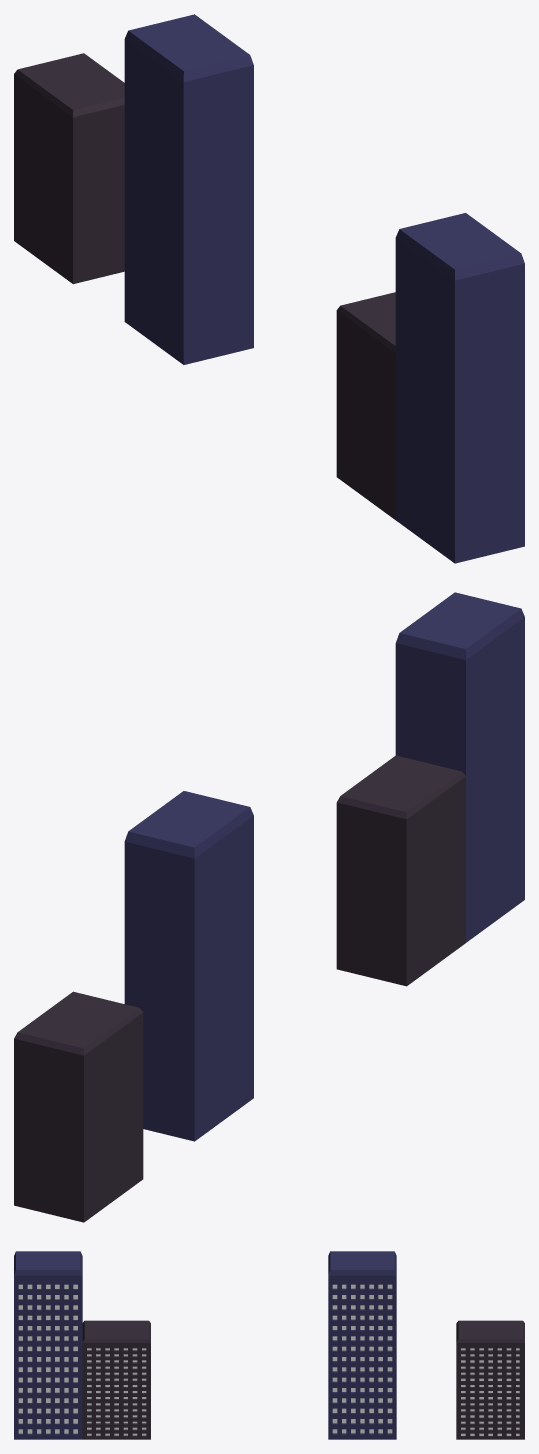
The model's file is buildings2.fbx.
3 renders of one model, top to bottom at view 1: azimuth 30°, elevation 25°; view 2: azimuth 150°, elevation 25°; view 3: azimuth 270°, elevation 25°, orthographic. The views are drawn at different scales.
Visible parts, largest first — view 1: Cube.001, Cube.002, Cube.003; view 2: Cube.001, Cube.002, Cube.003; view 3: Cube.001, Cube.002, Cube.003, Plane, Plane.002, Plane.003, Plane.001.
Part boxes in pixels (x1,y1,x2,y2): Cube.001: [336, 213, 524, 563]; Cube.002: [124, 14, 253, 364]; Cube.003: [14, 53, 124, 284]; Cube.001: [336, 592, 524, 986]; Cube.002: [124, 791, 253, 1141]; Cube.003: [14, 991, 143, 1222]; Cube.001: [14, 1251, 150, 1439]; Cube.002: [328, 1251, 396, 1439]; Cube.003: [456, 1320, 524, 1439]; Plane: [18, 1284, 77, 1433]; Plane.002: [332, 1284, 392, 1433]; Plane.003: [461, 1348, 519, 1435]; Plane.001: [87, 1348, 146, 1435].
Bounding box in the file's own units: 200 × 797 × 2180.
